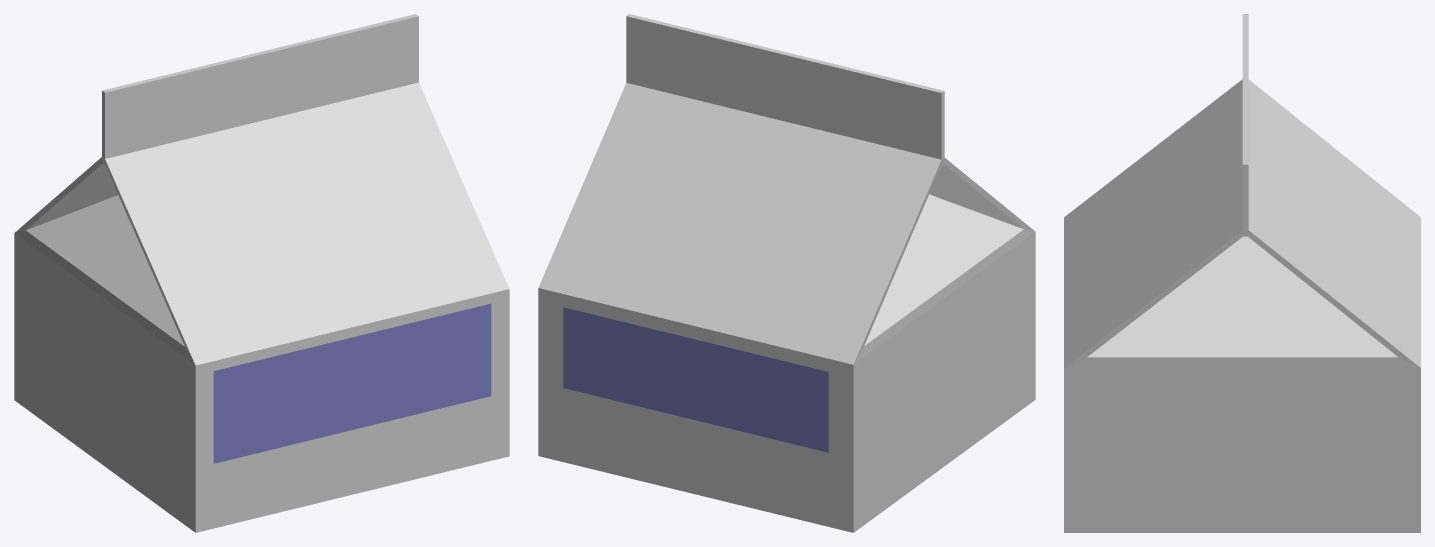
Rendered from cream10071932.fbx.
3 views of the same model, side by side, from view 1: azimuth 30°, elevation 25°; view 2: azimuth 150°, elevation 25°; view 3: azimuth 270°, elevation 25° (orthographic).
Visible parts, largest first — view 1: Cube; view 2: Cube; view 3: Cube.
Boxes of the visible parts, x1=… form: Cube: x1=14, y1=14, x2=509, y2=532; Cube: x1=538, y1=14, x2=1035, y2=532; Cube: x1=1064, y1=14, x2=1420, y2=532.
Size of the model in its own units: 2 by 2.28 by 2.
